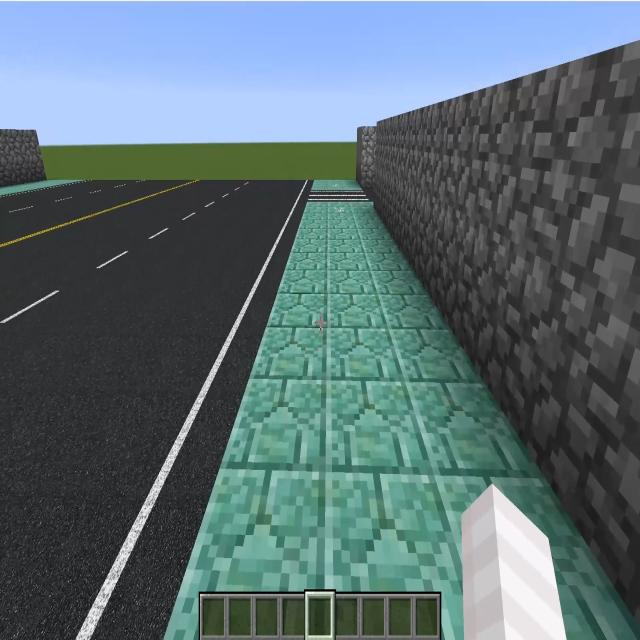crosswalk: (309, 190, 371, 201)
road: (1, 181, 313, 639)
sidewalk: (161, 202, 640, 639), (0, 180, 82, 192), (312, 180, 363, 192)
